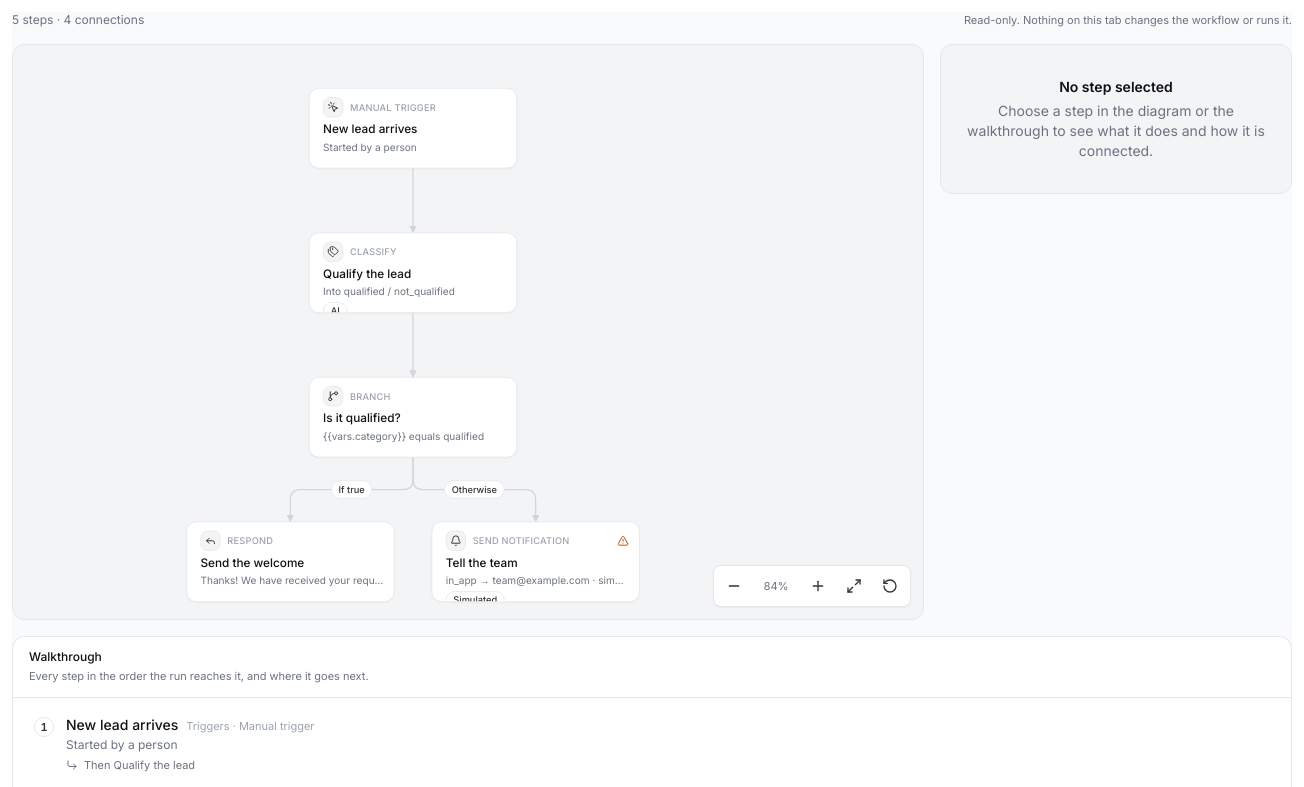
WorkflowPreview navigation › selects a node and shows what it does and how it connects
Click the button with test id "preview-node-check" at coordinates (413, 417), box top-left (309, 377), bottom-right (517, 458)
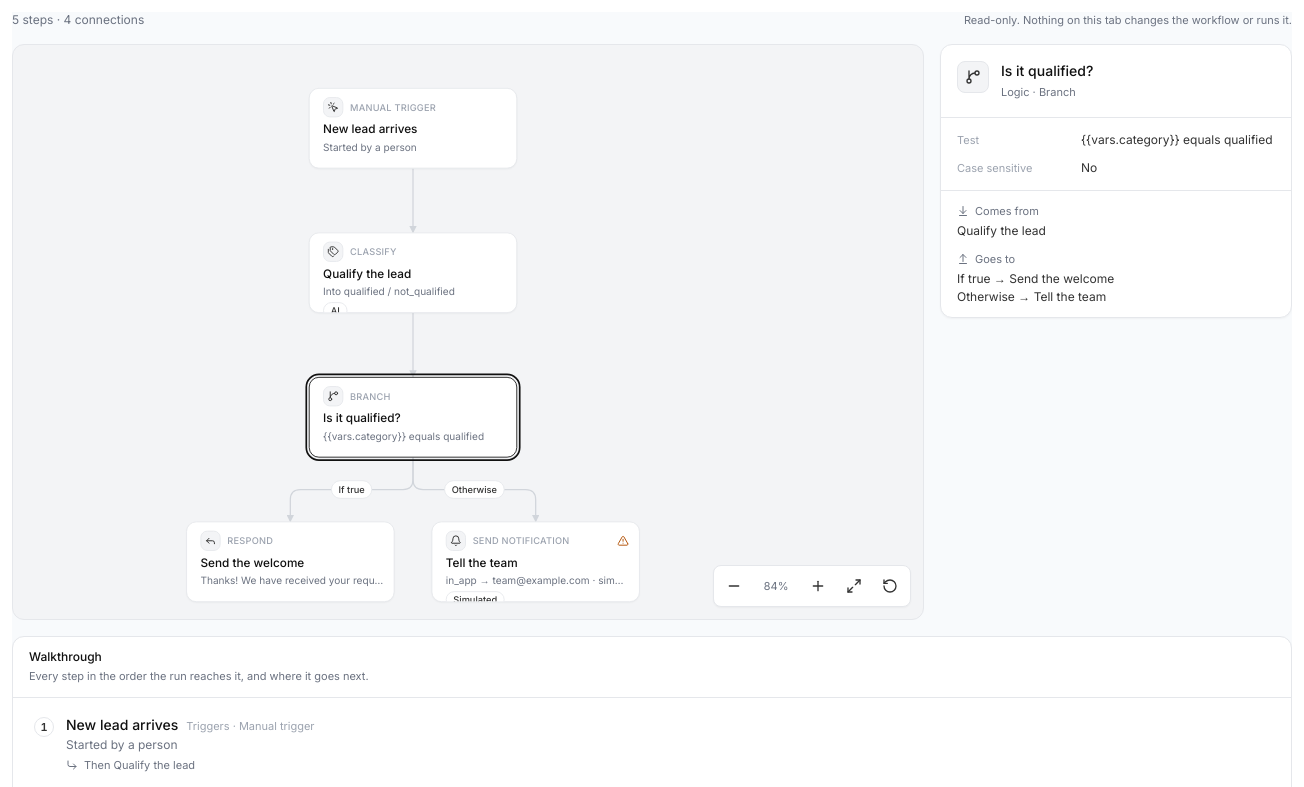
expect the text "Test" is shown: met, box top-left (957, 133), bottom-right (979, 147)
expect the text "Comes from" is shown: met, box top-left (957, 204), bottom-right (1039, 218)
expect the text "Goes to" is shown: met, box top-left (957, 252), bottom-right (1015, 266)
